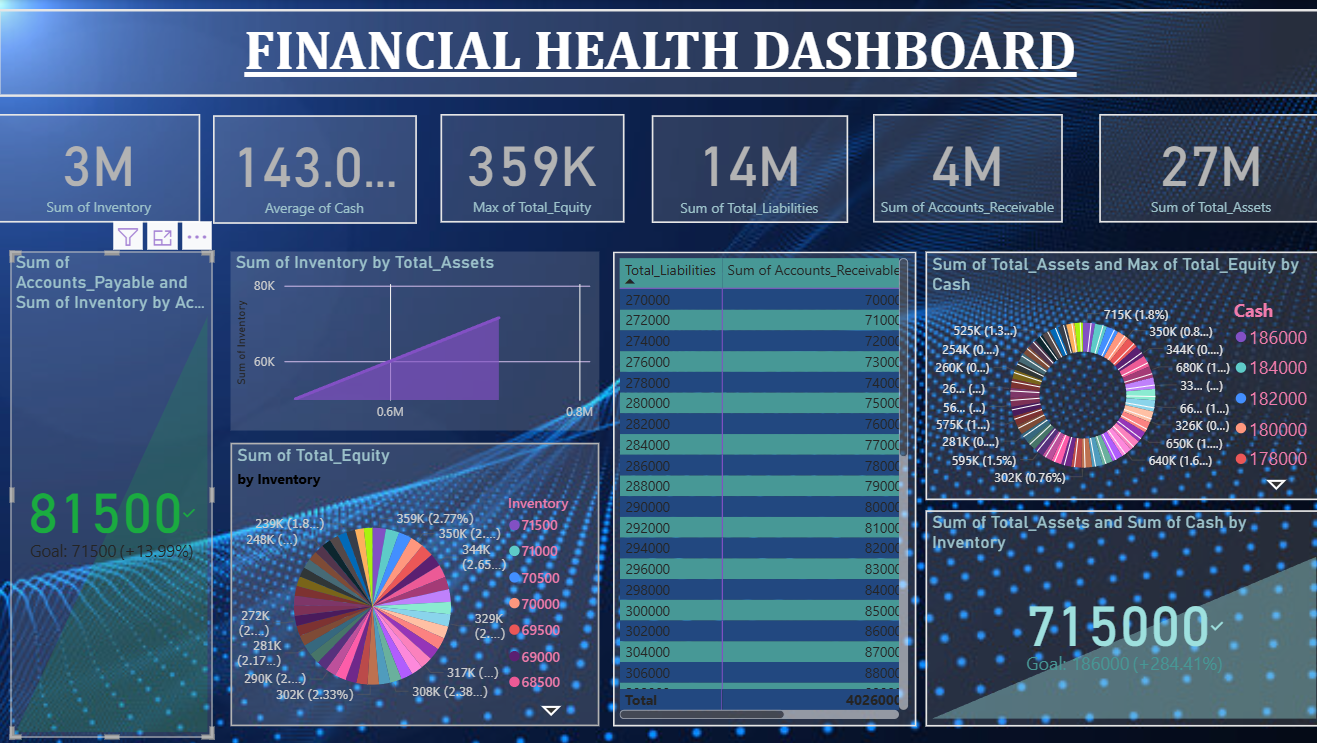

This screenshot's page, from the dashboard's own definition file:
{"tool":"powerbi","page":{"name":"Page 1","canvas":[1280,720],"ordinal":0},"visuals":[{"type":"kpi","fields":{"Indicator":["Sum(BalenceSheet.Total_Assets)"],"Goal":["Sum(BalenceSheet.Cash)"],"TrendLine":["BalenceSheet.Inventory"]},"box":[895.2,493.4,384.9,219.6],"z":0},{"type":"pieChart","fields":{"Category":["BalenceSheet.Inventory"],"Y":["Sum(BalenceSheet.Total_Equity)"]},"box":[223.7,465.3,356.2,254.9],"z":1000},{"type":"textbox","box":[0,9.7,1280,84.5],"z":2000},{"type":"card","fields":{"Values":["Sum(BalenceSheet.Inventory)"]},"box":[0,111,195.4,105],"z":3000},{"type":"card","fields":{"Values":["Avg(BalenceSheet.Cash)"]},"box":[207.5,112.2,196.6,105],"z":4000},{"type":"card","fields":{"Values":["Max(BalenceSheet.Total_Equity)"]},"box":[427.1,111,177.3,105],"z":5000},{"type":"pivotTable","fields":{"Rows":["BalenceSheet.Total_Liabilities"],"Values":["Sum(BalenceSheet.Accounts_Receivable)","Sum(BalenceSheet.Inventory)"]},"box":[593.6,243.7,293.2,469.3],"z":6000},{"type":"donutChart","fields":{"Category":["BalenceSheet.Cash","BalenceSheet.Inventory"],"Y":["Sum(BalenceSheet.Total_Assets)","Max(BalenceSheet.Total_Equity)"]},"box":[895,243.8,385,240],"z":7000},{"type":"card","fields":{"Values":["Sum(BalenceSheet.Total_Liabilities)"]},"box":[631,112.2,189.4,103.8],"z":8000},{"type":"card","fields":{"Values":["Sum(BalenceSheet.Accounts_Receivable)"]},"box":[844.5,111,183.4,105],"z":9000},{"type":"card","fields":{"Values":["Sum(BalenceSheet.Total_Assets)"]},"box":[1062.9,111,217.2,105],"z":10000},{"type":"kpi","fields":{"Indicator":["Sum(BalenceSheet.Accounts_Payable)"],"TrendLine":["BalenceSheet.Accounts_Receivable"],"Goal":["Sum(BalenceSheet.Inventory)"]},"box":[12.1,243.7,195.4,469.3],"z":11000},{"type":"areaChart","fields":{"Category":["BalenceSheet.Total_Assets"],"Y":["Sum(BalenceSheet.Inventory)"]},"box":[224.4,243.7,355.9,206.3],"z":11001}]}

Visuals, with their boxes in screenshot pixels (x1, y1, x2, y2), scaled from the page's 1280x720 canvas onto the 1317x743 screenshot:
kpi - Sum(BalenceSheet.Total_Assets) x Sum(BalenceSheet.Cash): BBox(921, 509, 1316, 736)
pieChart - BalenceSheet.Inventory x Sum(BalenceSheet.Total_Equity): BBox(230, 480, 597, 742)
textbox: BBox(0, 10, 1316, 97)
card - Sum(BalenceSheet.Inventory): BBox(0, 115, 201, 223)
card - Avg(BalenceSheet.Cash): BBox(213, 116, 416, 224)
card - Max(BalenceSheet.Total_Equity): BBox(439, 115, 622, 223)
pivotTable - BalenceSheet.Total_Liabilities x Sum(BalenceSheet.Accounts_Receivable): BBox(611, 251, 912, 736)
donutChart - BalenceSheet.Cash x BalenceSheet.Inventory: BBox(921, 252, 1316, 499)
card - Sum(BalenceSheet.Total_Liabilities): BBox(649, 116, 844, 223)
card - Sum(BalenceSheet.Accounts_Receivable): BBox(869, 115, 1058, 223)
card - Sum(BalenceSheet.Total_Assets): BBox(1094, 115, 1316, 223)
kpi - Sum(BalenceSheet.Accounts_Payable) x BalenceSheet.Accounts_Receivable: BBox(12, 251, 213, 736)
areaChart - BalenceSheet.Total_Assets x Sum(BalenceSheet.Inventory): BBox(231, 251, 597, 464)
